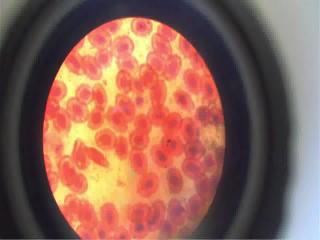cell: (113, 92, 135, 117), (59, 158, 76, 188), (81, 199, 99, 226), (68, 99, 90, 121), (113, 34, 136, 55), (62, 194, 80, 220), (149, 32, 170, 54), (92, 130, 116, 149), (149, 203, 165, 230), (158, 20, 179, 40), (130, 154, 151, 174), (107, 110, 126, 132), (168, 168, 185, 192), (131, 16, 153, 34), (84, 57, 102, 79), (47, 81, 69, 99), (128, 131, 152, 147), (90, 30, 110, 49), (162, 110, 181, 130), (100, 205, 120, 224), (152, 84, 170, 105), (205, 76, 219, 103), (93, 82, 109, 105), (164, 135, 183, 154), (66, 52, 84, 72), (75, 81, 93, 101), (138, 176, 158, 194), (150, 104, 168, 124), (182, 159, 204, 175), (186, 142, 207, 158), (188, 197, 202, 221), (195, 176, 211, 197), (120, 58, 142, 73), (90, 106, 105, 128), (169, 200, 184, 222), (148, 52, 164, 72), (152, 146, 168, 166), (141, 64, 157, 84), (167, 56, 180, 80), (186, 72, 200, 94), (175, 92, 192, 110), (130, 200, 146, 219), (98, 52, 116, 68), (186, 120, 200, 138), (132, 223, 148, 235), (137, 116, 150, 130)
